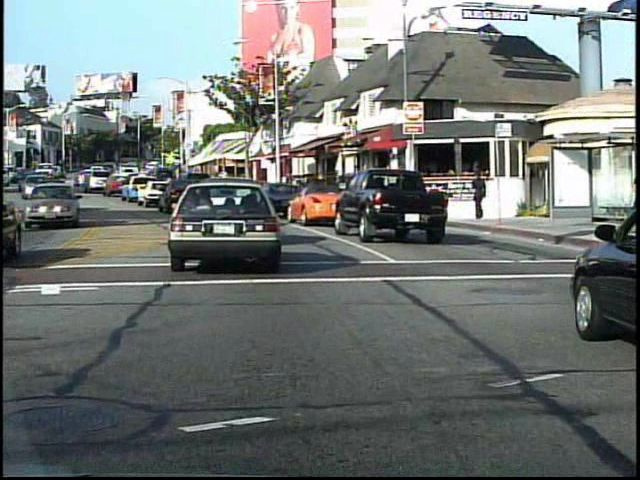person: (468, 172, 487, 226)
